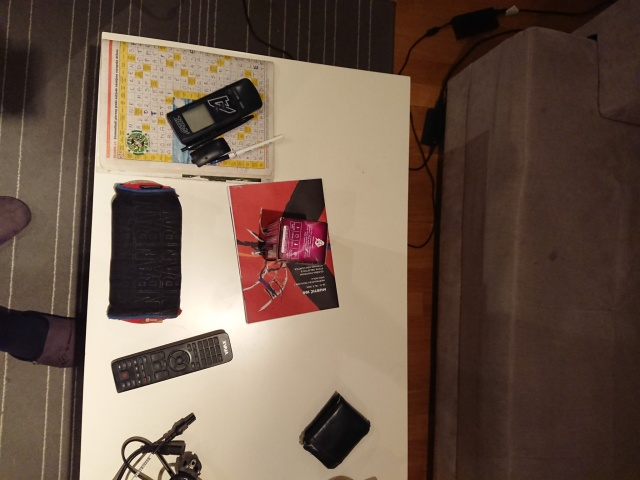Franck Black Currant Tea 60g: (261, 214, 330, 267)
